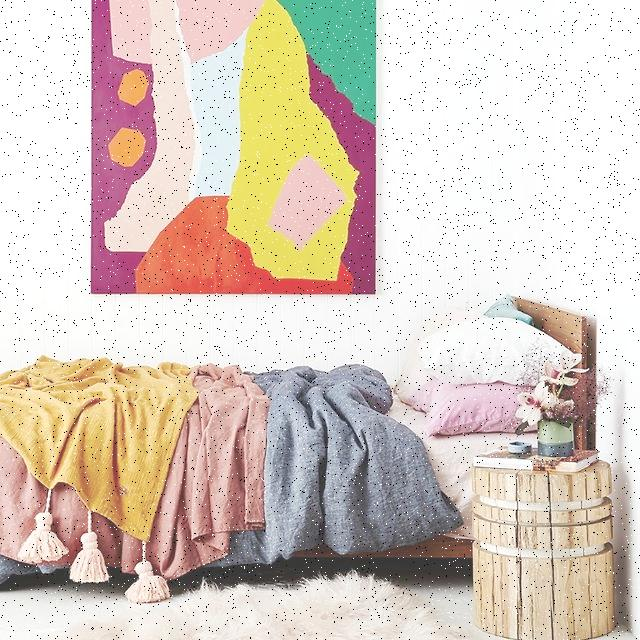bed: (1, 295, 591, 593)
